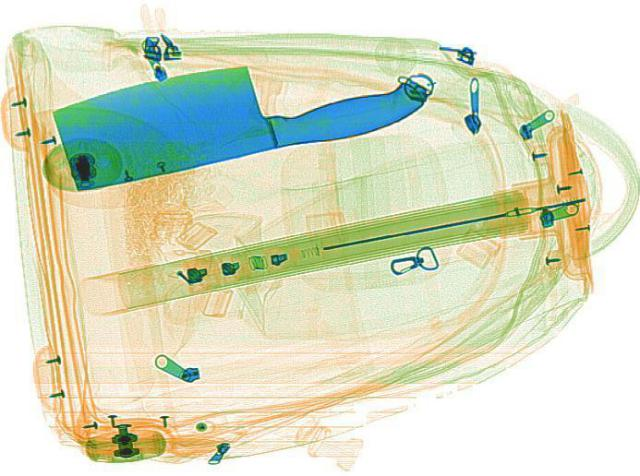Knife: (33, 25, 439, 194)
